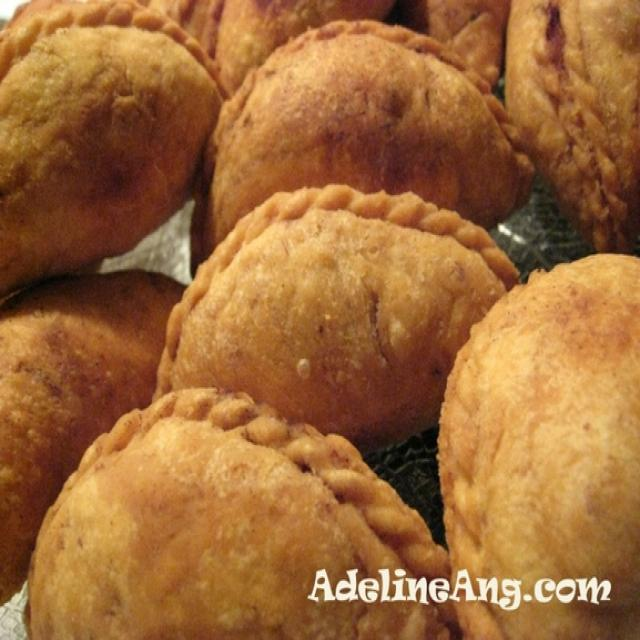炸货点心: (11, 11, 618, 592)
